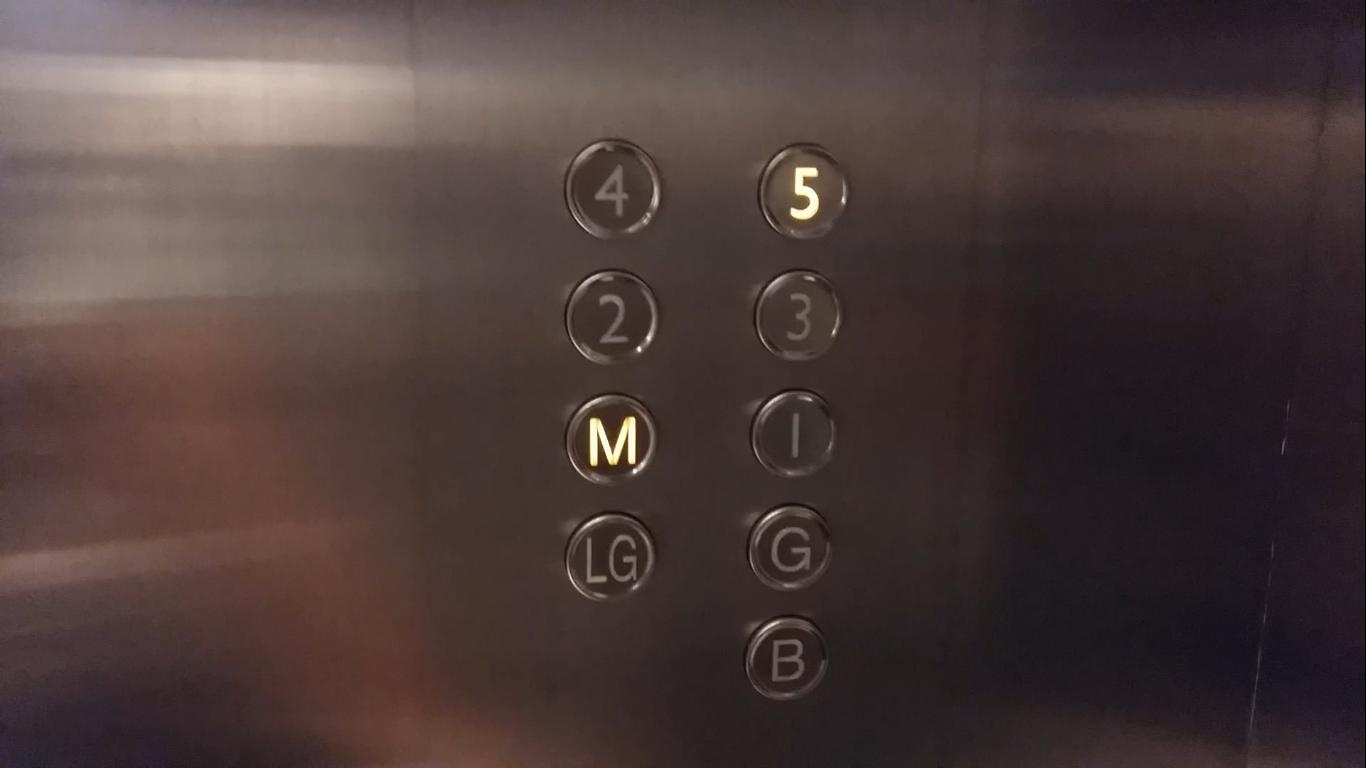1: (747, 384, 839, 477)
2: (562, 266, 662, 366)
3: (752, 265, 843, 362)
4: (564, 136, 664, 241)
5: (756, 140, 850, 242)
B: (742, 612, 829, 702)
G: (744, 499, 834, 592)
LG: (562, 507, 657, 605)
M: (562, 389, 659, 487)
